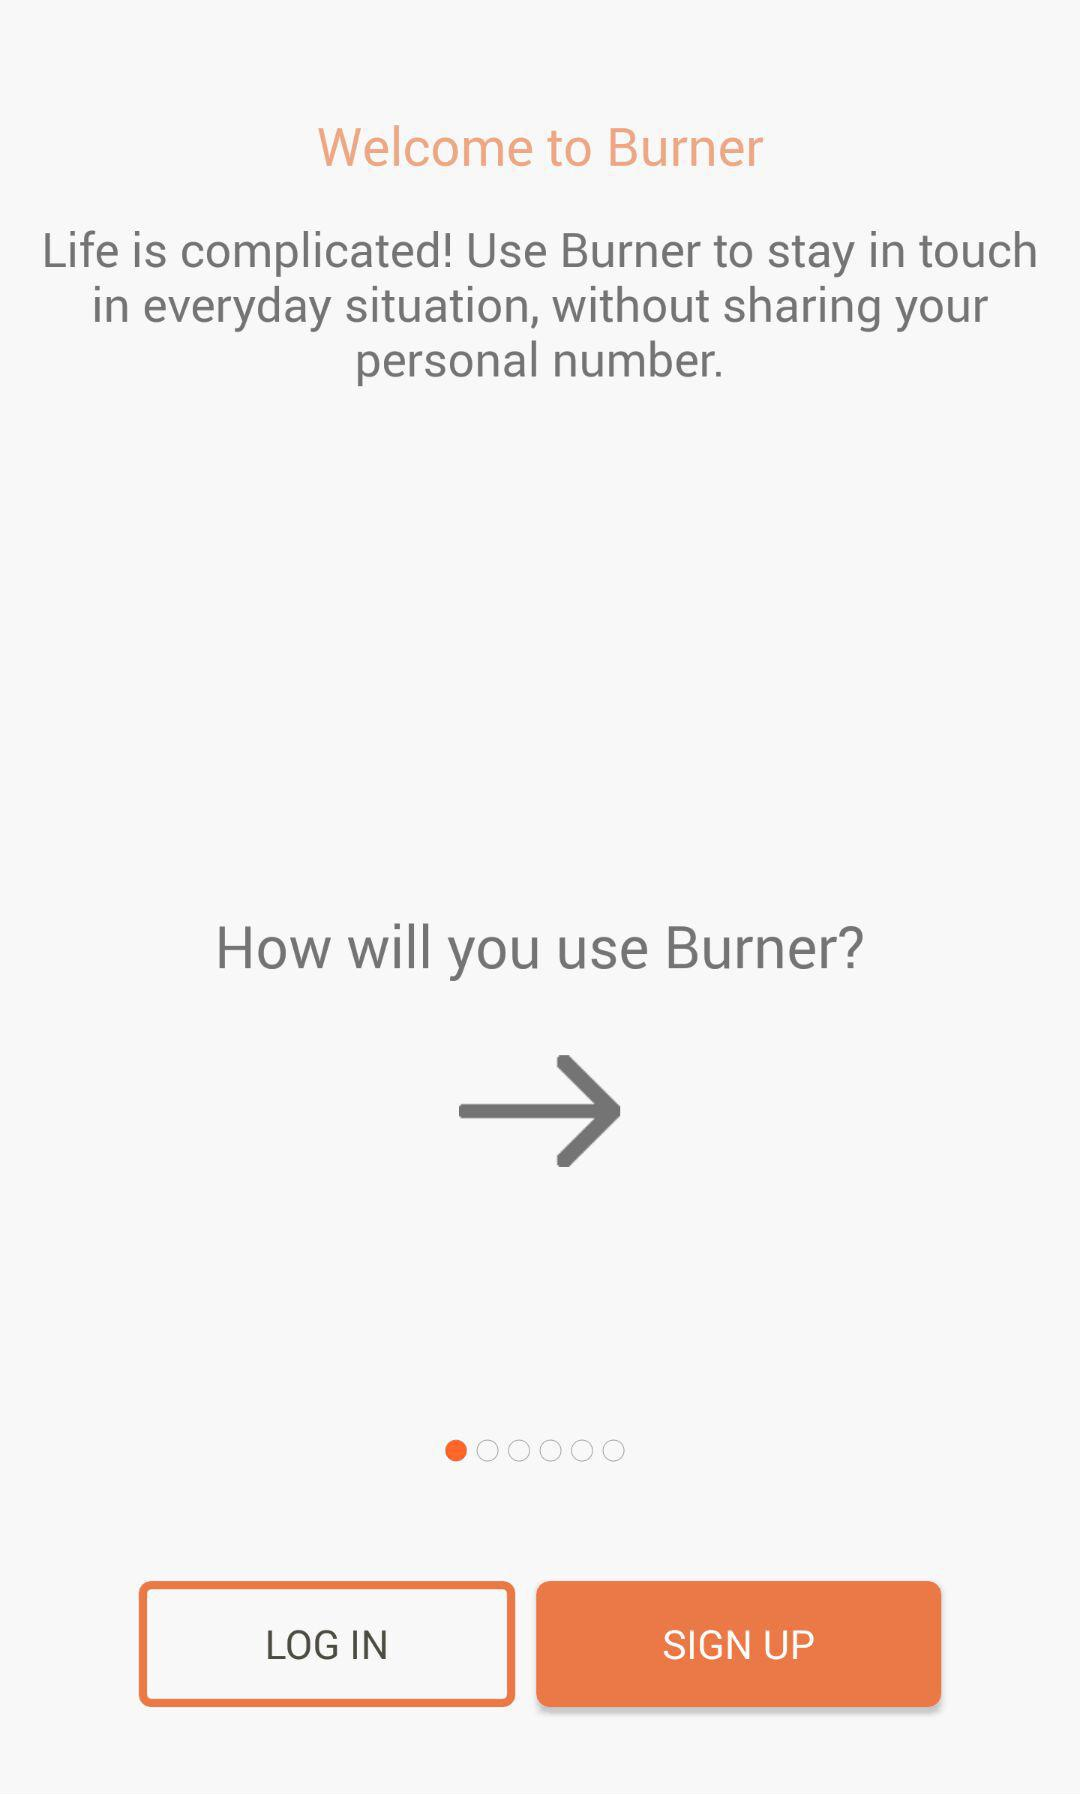Icon: (457, 1055, 623, 1167)
PageIndicator: (445, 1438, 626, 1463)
Text: (45, 231, 1036, 388), (219, 923, 863, 983), (318, 126, 765, 169)
TextButton: (536, 1580, 943, 1708), (138, 1580, 518, 1708)
